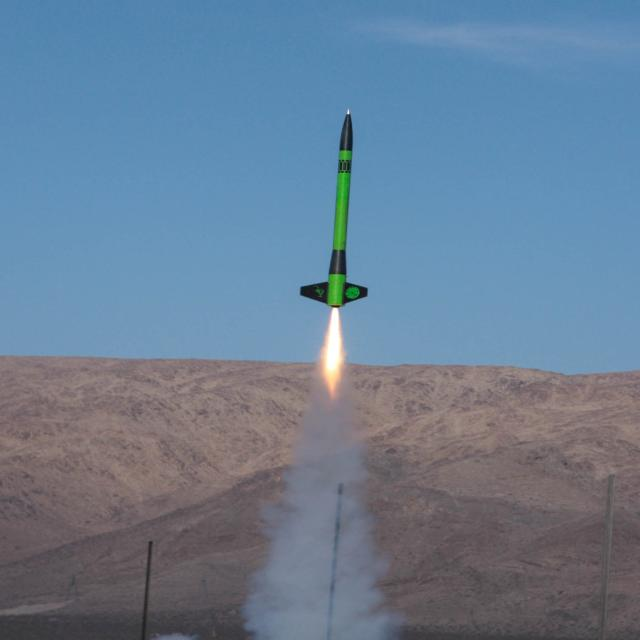Rocket: (298, 108, 369, 310)
